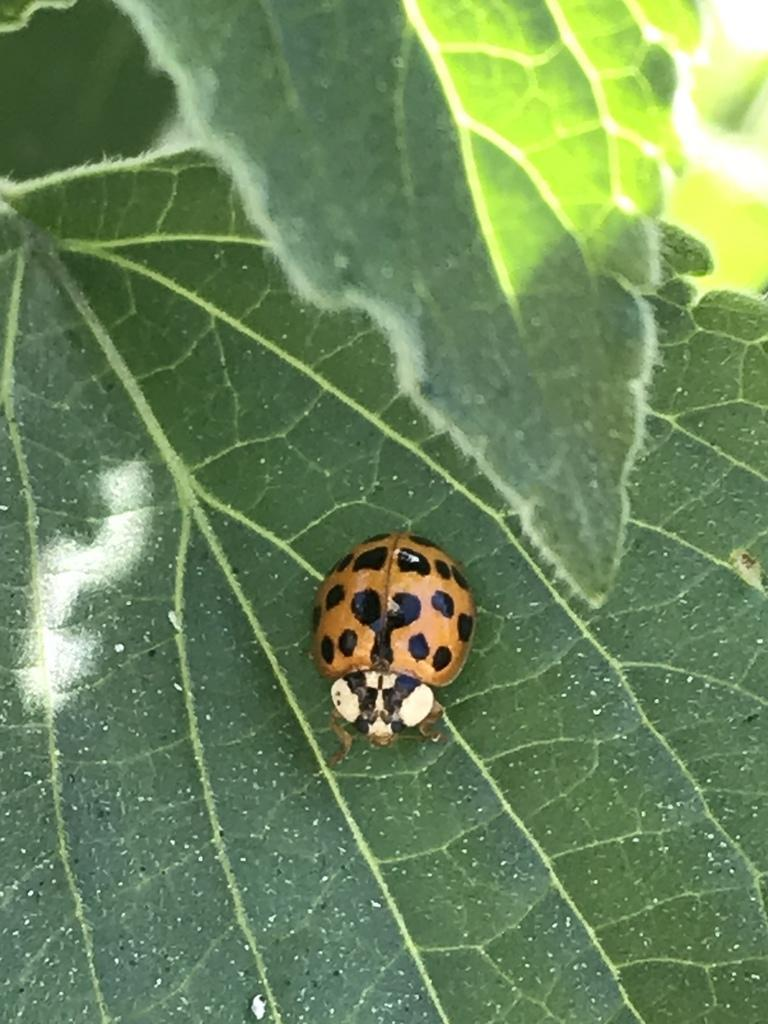ladybug: (311, 531, 484, 766)
